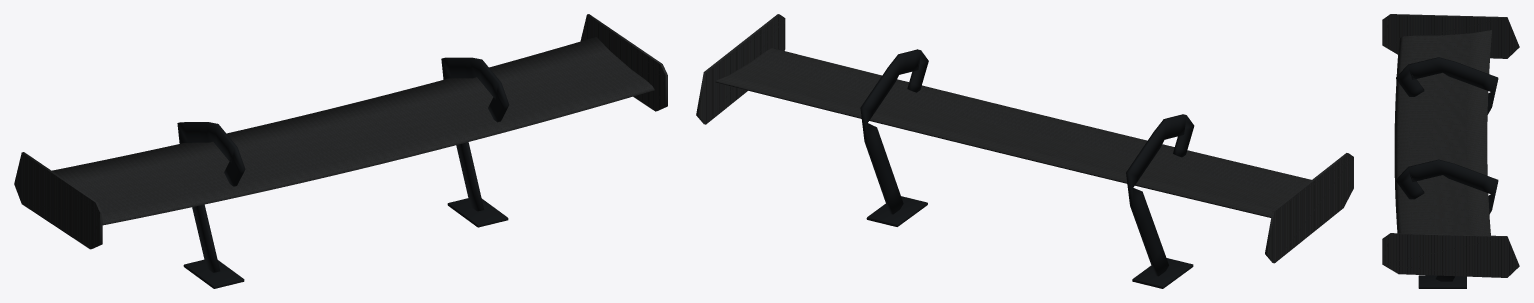
File: RA62_swan_neck_wing.glb
3 views of the same model, side by side, from view 1: azimuth 30°, elevation 25°; view 2: azimuth 150°, elevation 25°; view 3: azimuth 270°, elevation 25° (orthographic). The views are drawn at different scales.
Parts seen in each view (by area): view 1: MOD_NA_RA62_main, MOD_NA_RA62_endplate_R, MOD_NA_RA62_upright_L, MOD_NA_RA62_endplate_L, MOD_NA_RA62_upright_R, MOD_NA_RA62_foot_R, MOD_NA_RA62_foot_L; view 2: MOD_NA_RA62_main, MOD_NA_RA62_endplate_R, MOD_NA_RA62_upright_L, MOD_NA_RA62_endplate_L, MOD_NA_RA62_upright_R, MOD_NA_RA62_foot_R, MOD_NA_RA62_foot_L; view 3: MOD_NA_RA62_main, MOD_NA_RA62_endplate_L, MOD_NA_RA62_endplate_R, MOD_NA_RA62_upright_L, MOD_NA_RA62_upright_R, MOD_NA_RA62_foot_L.
Part boxes in pixels (left/top/right/bottom): MOD_NA_RA62_main: left=52, top=37, right=654, bottom=225; MOD_NA_RA62_endplate_R: left=14, top=152, right=102, bottom=249; MOD_NA_RA62_upright_L: left=441, top=57, right=509, bottom=211; MOD_NA_RA62_endplate_L: left=580, top=14, right=667, bottom=111; MOD_NA_RA62_upright_R: left=177, top=122, right=245, bottom=272; MOD_NA_RA62_foot_R: left=183, top=259, right=244, bottom=288; MOD_NA_RA62_foot_L: left=447, top=198, right=508, bottom=227; MOD_NA_RA62_main: left=715, top=48, right=1311, bottom=217; MOD_NA_RA62_endplate_R: left=1265, top=153, right=1353, bottom=263; MOD_NA_RA62_upright_L: left=860, top=49, right=928, bottom=214; MOD_NA_RA62_endplate_L: left=696, top=14, right=785, bottom=124; MOD_NA_RA62_upright_R: left=1126, top=114, right=1194, bottom=276; MOD_NA_RA62_foot_R: left=1132, top=258, right=1193, bottom=288; MOD_NA_RA62_foot_L: left=866, top=196, right=927, bottom=226; MOD_NA_RA62_main: left=1394, top=30, right=1491, bottom=235; MOD_NA_RA62_endplate_L: left=1382, top=233, right=1519, bottom=277; MOD_NA_RA62_endplate_R: left=1382, top=14, right=1519, bottom=58; MOD_NA_RA62_upright_L: left=1396, top=159, right=1498, bottom=281; MOD_NA_RA62_upright_R: left=1396, top=57, right=1498, bottom=114; MOD_NA_RA62_foot_L: left=1418, top=275, right=1466, bottom=288.
Size of the model in its own units: 1.29 by 0.3417 by 0.34.
2 materials, 1 textured.
